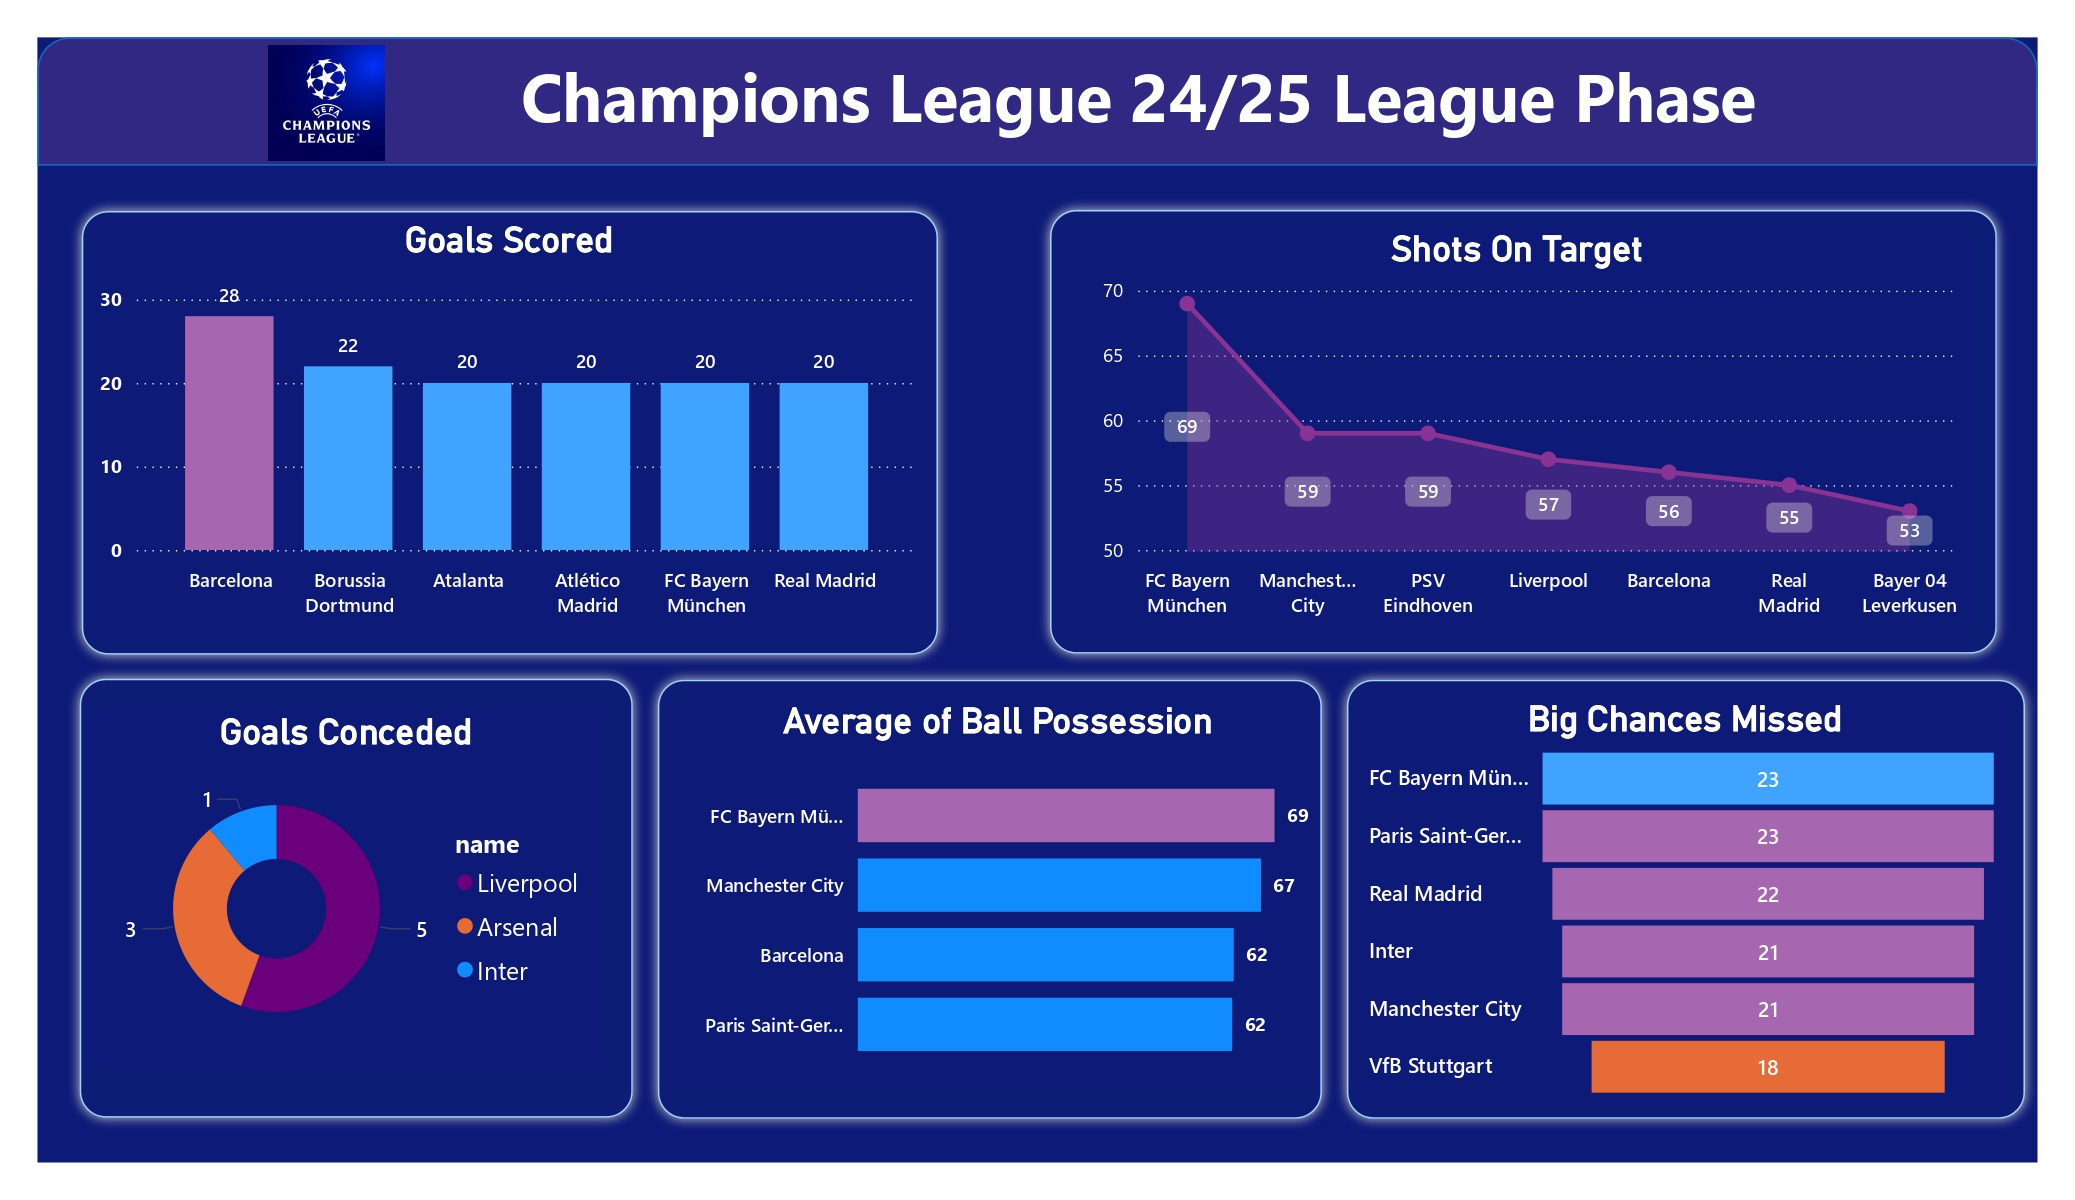

Layout of this report page (visuals, bound fields, positions):
{"tool":"powerbi","page":{"name":"Page 1","canvas":[1280,720],"ordinal":0},"visuals":[{"type":"shape","box":[0,0,1280,81.5],"z":0},{"type":"textbox","box":[227.1,3,954.6,99.5],"z":1000},{"type":"shape","box":[19.6,102.6,564.5,300.4],"z":3000},{"type":"columnChart","title":"Goals Scored ","fields":{"Category":["Sheet1.name"],"Y":["Sum(Sheet1.goalsScored)"]},"box":[34.7,116.2,534.3,262.6],"z":4000},{"type":"shape","box":[639.8,102.4,622,299.9],"z":5000},{"type":"stackedAreaChart","title":"Shots On Target ","fields":{"Category":["Sheet1.name"],"Y":["Sum(Sheet1.shotsOnTarget)"]},"box":[655.1,122.3,584.2,256.6],"z":6000},{"type":"shape","box":[19.3,402.3,369.6,296.9],"z":7000},{"type":"shape","box":[389.4,403,440.8,297.4],"z":8000},{"type":"shape","box":[830.2,403,449.8,297.4],"z":9000},{"type":"donutChart","title":"Goals Conceded ","fields":{"Category":["Sheet1.name"],"Y":["Sum(Sheet1.goalsConceded)"]},"box":[34.1,430.5,326.6,227.1],"z":10000},{"type":"barChart","title":"Average of Ball Possession ","fields":{"Category":["Sheet1.name"],"Y":["Avg(Sheet1.averageBallPossession)"]},"box":[409.1,424.2,410.6,249.1],"z":11000},{"type":"funnel","title":" Big Chances Missed ","fields":{"Category":["Sheet1.name"],"Y":["Sum(Sheet1.bigChancesMissed)"]},"box":[846.8,422.6,415.1,261.1],"z":12000},{"type":"image","box":[68.1,0,234,84],"z":12001}]}

Visuals, with their boxes in screenshot pixels (x1, y1, x2, y2):
shape: {"left": 5, "top": 32, "right": 2052, "bottom": 163}
textbox: {"left": 368, "top": 37, "right": 1895, "bottom": 196}
shape: {"left": 37, "top": 196, "right": 939, "bottom": 677}
"Goals Scored " columnChart: {"left": 61, "top": 218, "right": 915, "bottom": 638}
shape: {"left": 1028, "top": 196, "right": 2023, "bottom": 676}
"Shots On Target " stackedAreaChart: {"left": 1053, "top": 228, "right": 1987, "bottom": 638}
shape: {"left": 36, "top": 676, "right": 627, "bottom": 1150}
shape: {"left": 628, "top": 677, "right": 1333, "bottom": 1152}
shape: {"left": 1333, "top": 677, "right": 2052, "bottom": 1152}
"Goals Conceded " donutChart: {"left": 60, "top": 721, "right": 582, "bottom": 1084}
"Average of Ball Possession " barChart: {"left": 659, "top": 711, "right": 1316, "bottom": 1109}
" Big Chances Missed " funnel: {"left": 1359, "top": 708, "right": 2023, "bottom": 1125}
image: {"left": 114, "top": 32, "right": 488, "bottom": 167}
